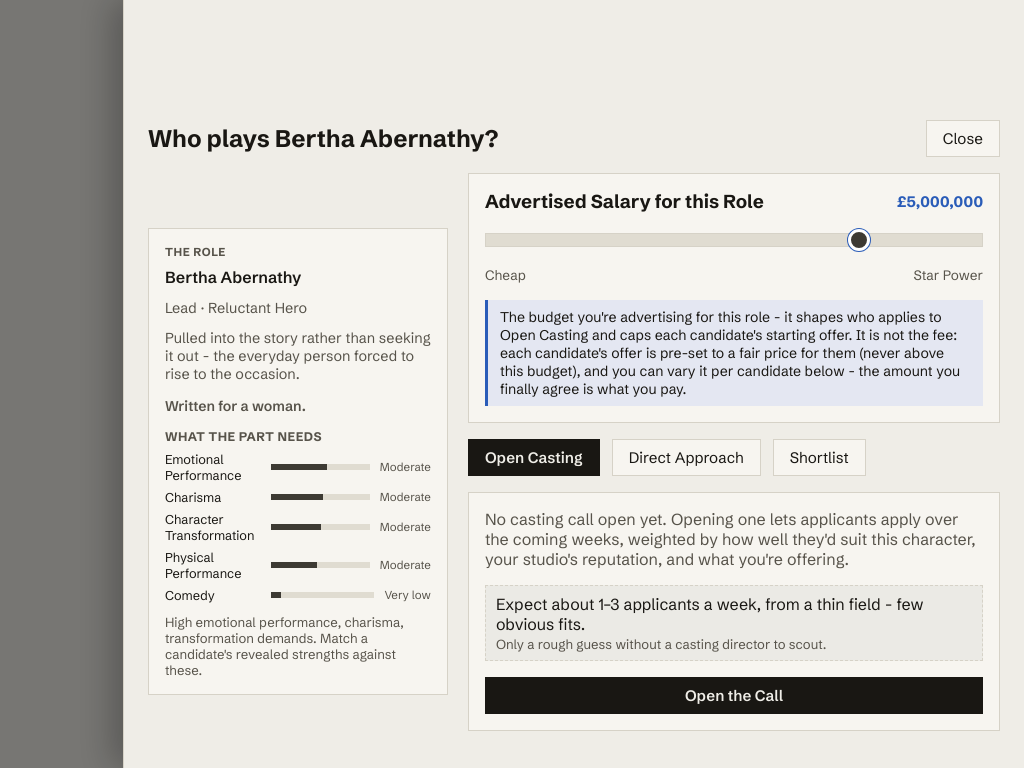
CastingDrawer - candidate reasoning chips › flags a below-salary-floor candidate with a "Below their floor" heads-up, but still lets you make the offer (they counter, not hard-reject)
Click the button "Direct Approach" at (686, 458), box top-left (612, 439), bottom-right (761, 476)
(page scrolled)
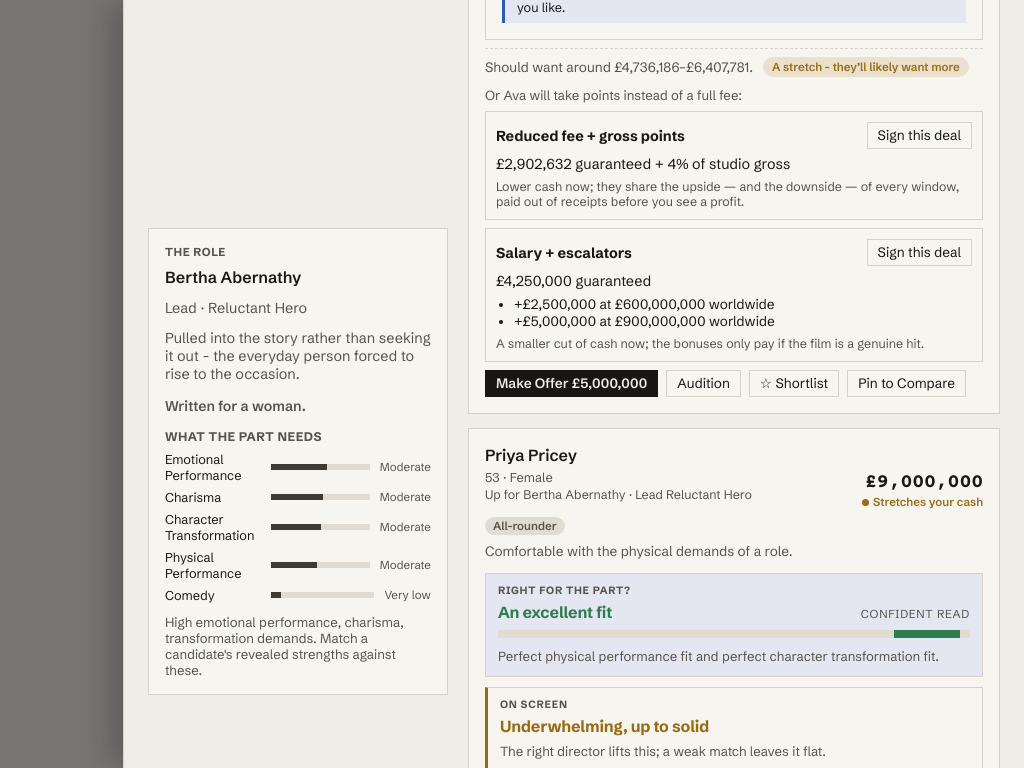
Expected: the button "Make Offer £5,000,000" is enabled, top-left (485, 370), bottom-right (658, 397)
